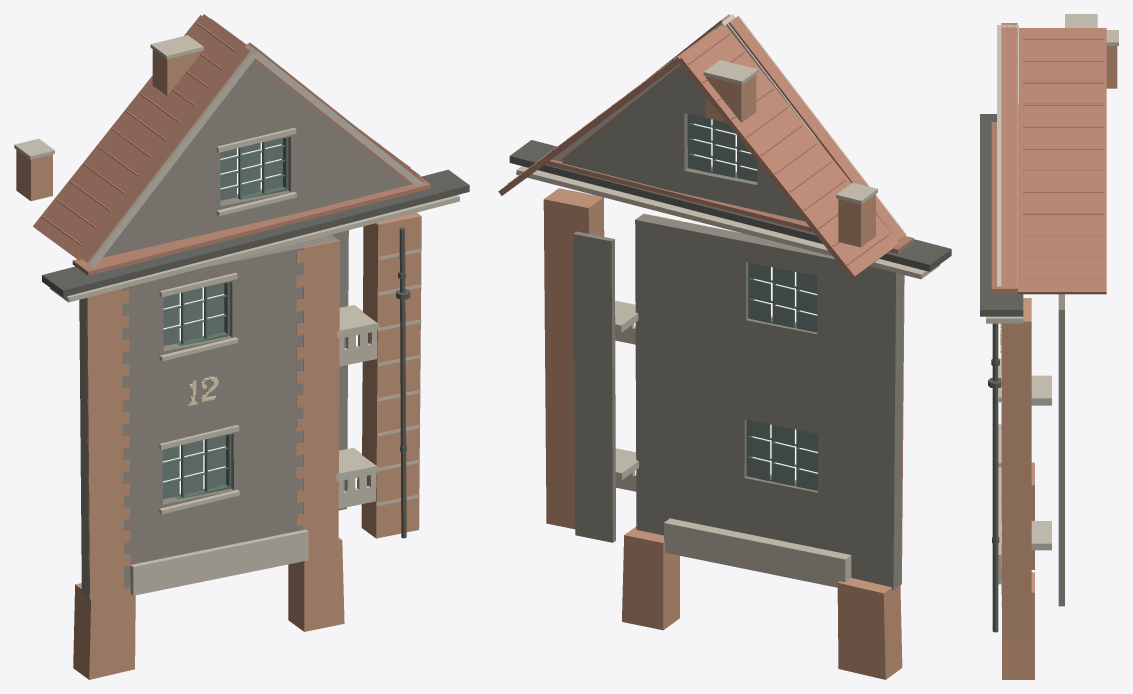
File: lod-source.glb
3 renders of one model, left to right at view 1: azimuth 30°, elevation 25°; view 2: azimuth 150°, elevation 25°; view 3: azimuth 270°, elevation 25°, orthographic. The views are drawn at different scales.
Visible parts, largest first — view 1: 新华村12号题号山墙; view 2: 新华村12号题号山墙; view 3: 新华村12号题号山墙.
Boxes of the visible parts, x1,y1,x2,y2 form: 新华村12号题号山墙: (14,14,469,679); 新华村12号题号山墙: (498,14,951,679); 新华村12号题号山墙: (980,14,1118,679).
Size of the model in its own units: 9.07 by 12.73 by 2.63.
